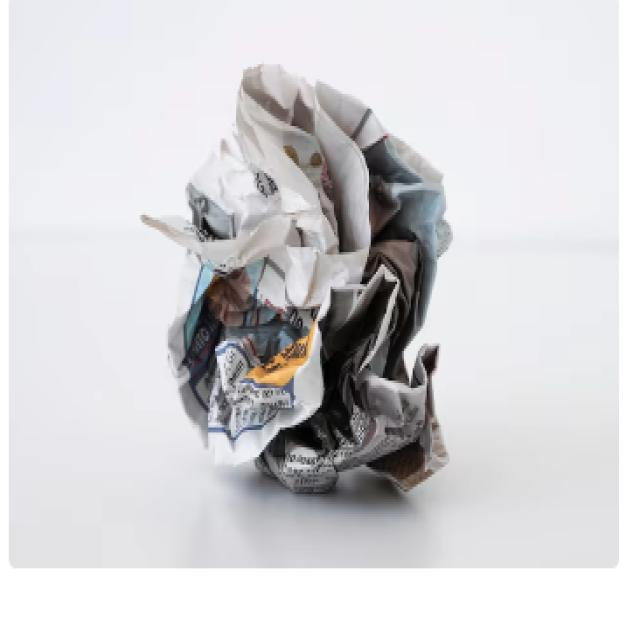Koran: (140, 59, 453, 497)
